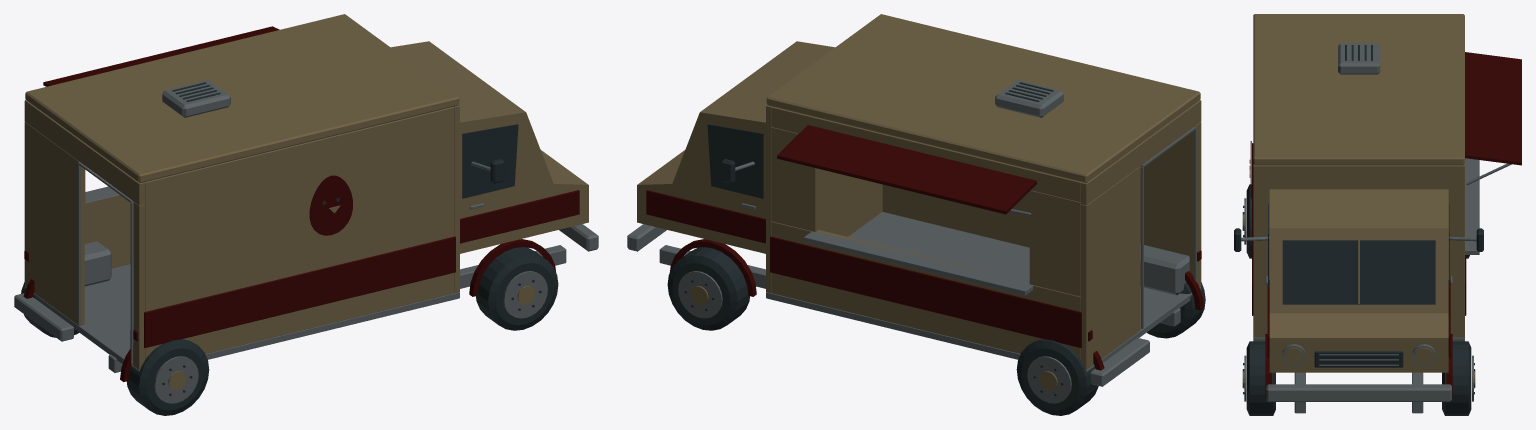
The model's file is SM_FoodTruck_A.fbx.
3 renders of one model, left to right at view 1: azimuth 30°, elevation 25°; view 2: azimuth 150°, elevation 25°; view 3: azimuth 270°, elevation 25°, orthographic. The views are drawn at different scales.
Parts seen in each view (by area): view 1: SM_FoodTruck_A; view 2: SM_FoodTruck_A; view 3: SM_FoodTruck_A.
Boxes of the visible parts, x1,y1,x2,y2 form: SM_FoodTruck_A: (14, 14, 598, 415); SM_FoodTruck_A: (627, 14, 1205, 415); SM_FoodTruck_A: (1234, 14, 1521, 415).
Bounding box in the file's own units: 354 × 630 × 325.
